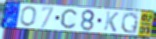7: (40, 5, 56, 29)
8: (80, 9, 96, 32)
C: (60, 8, 78, 30)
K: (103, 10, 121, 33)
O: (19, 6, 37, 28)
Q: (120, 11, 140, 35)
